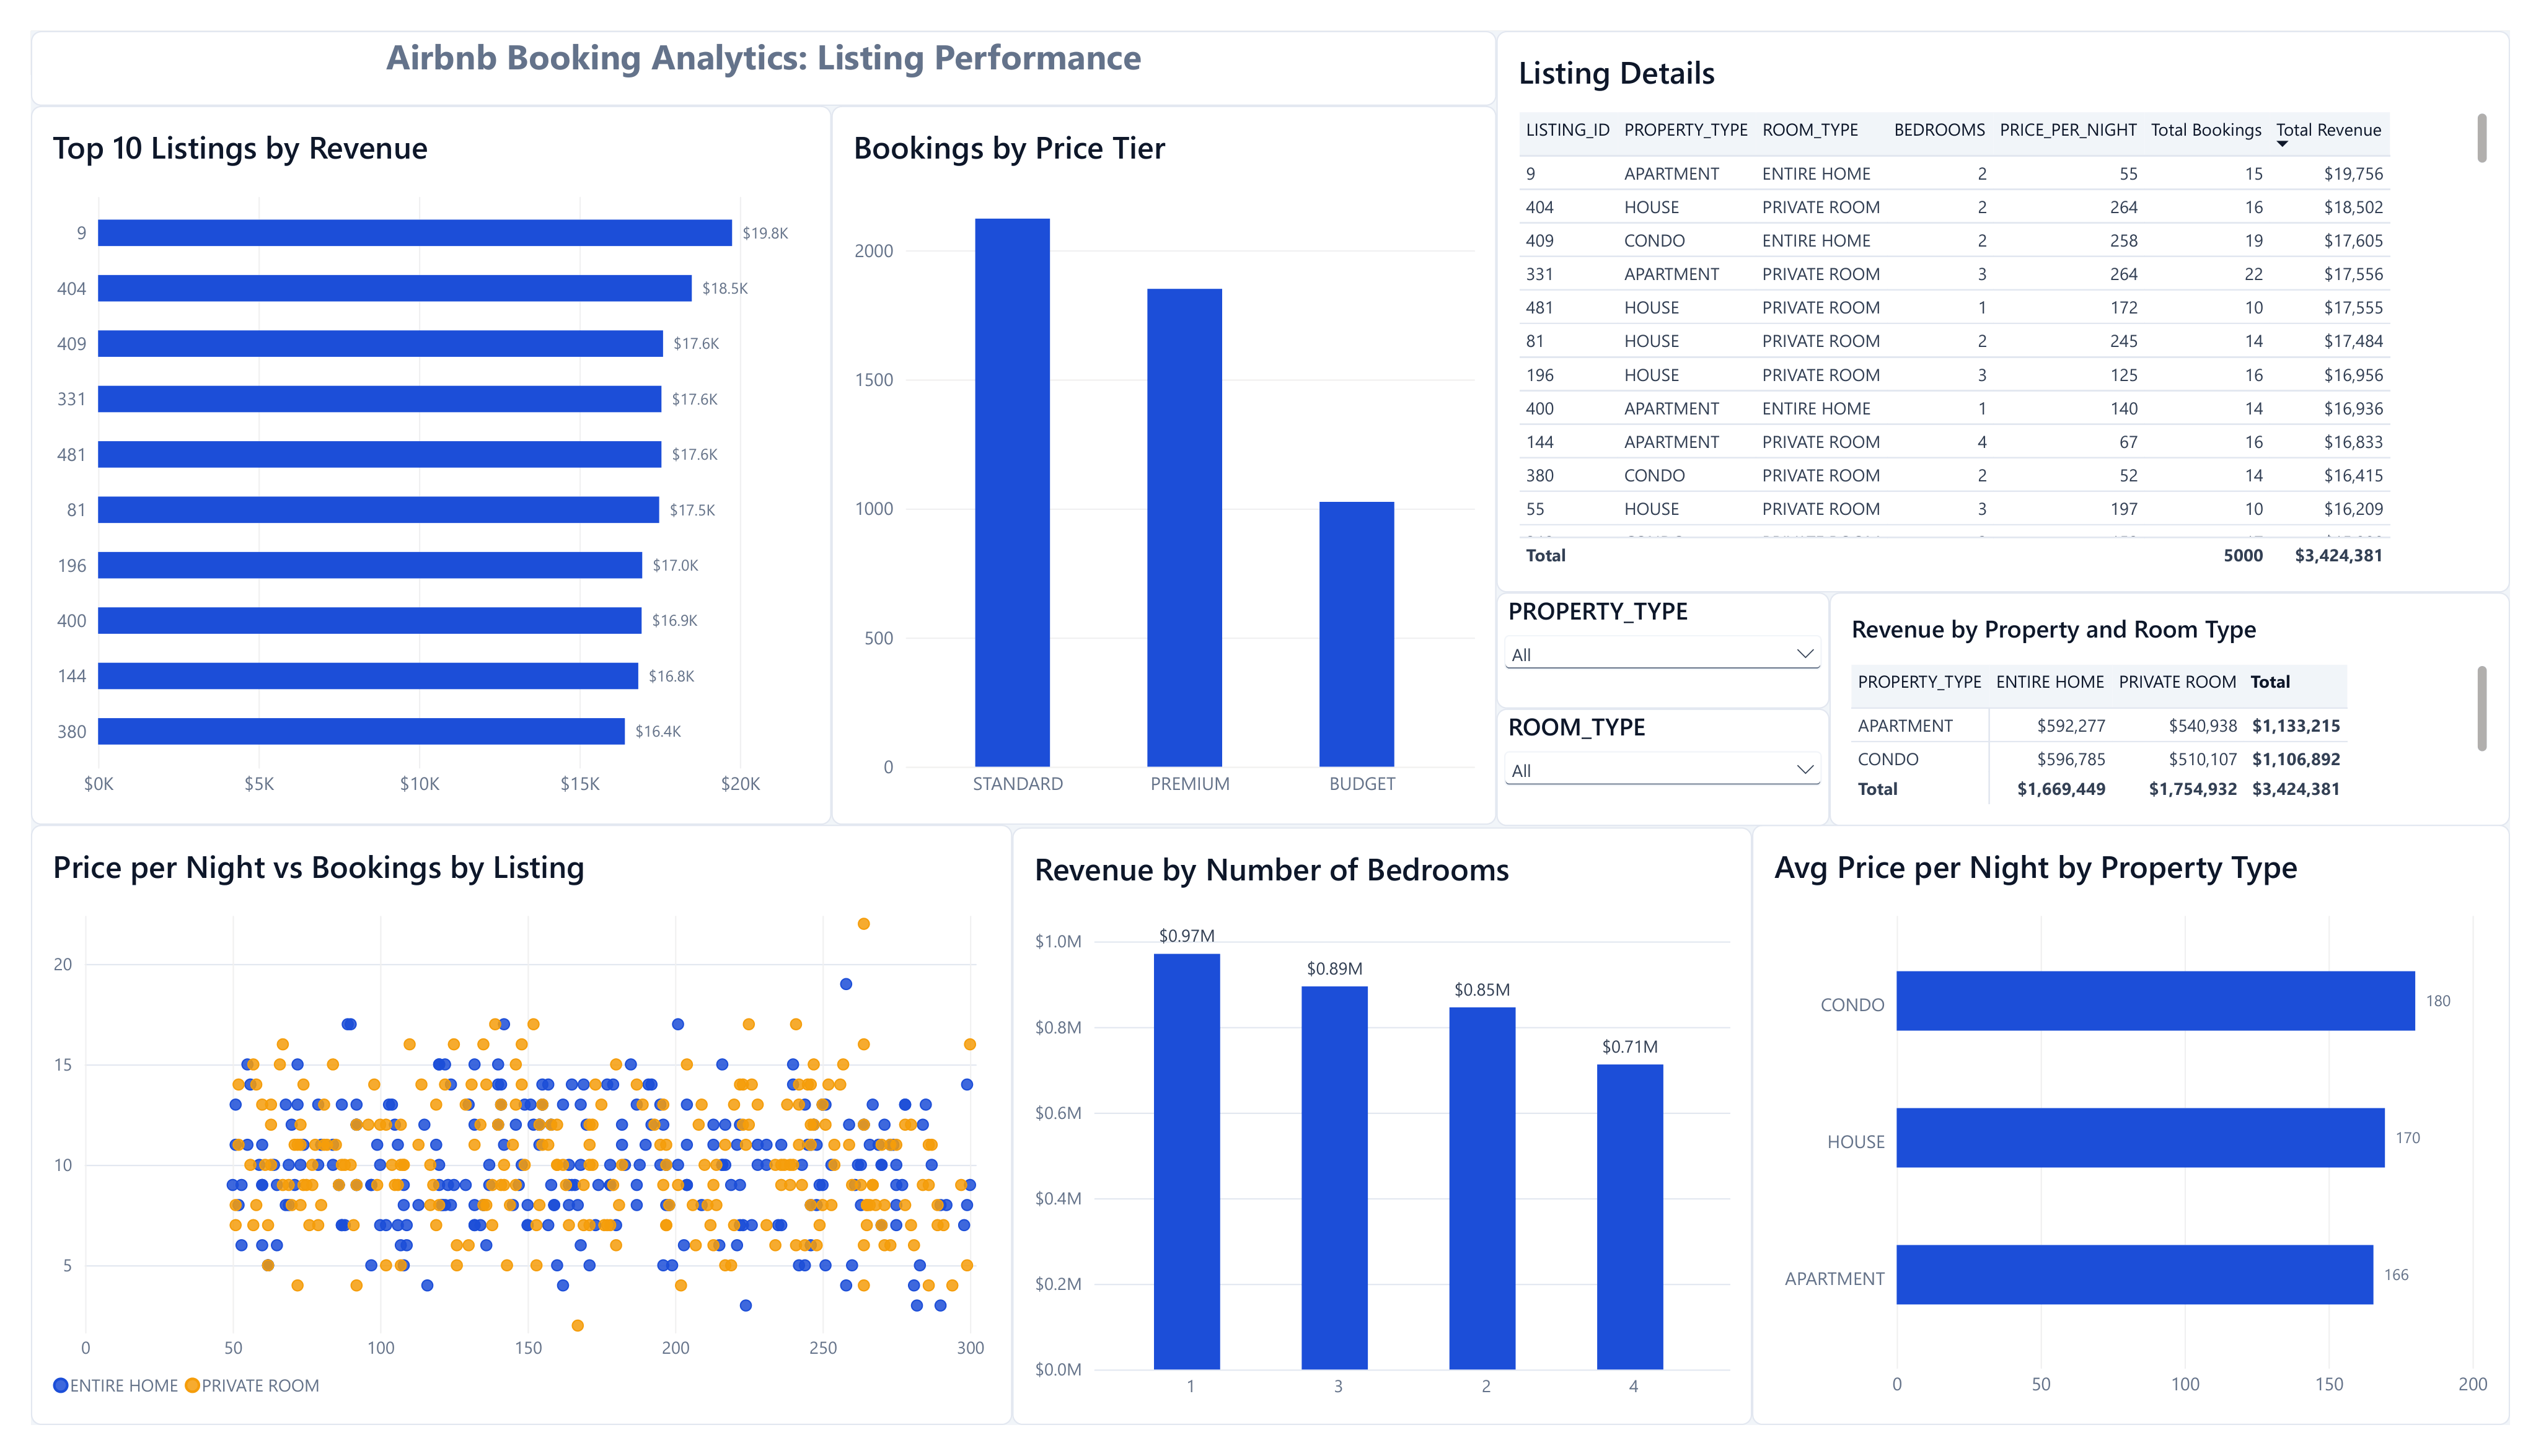

The page's visual inventory and layout, read from the dashboard file:
{"tool":"powerbi","page":{"name":"Listings","canvas":[1920,1080],"ordinal":1},"visuals":[{"type":"barChart","title":"Top 10 Listings by Revenue","fields":{"Y":["_Measures.Total Revenue"],"Category":["DIM_LISTINGS.LISTING_ID"]},"box":[0,58.3,620,556.7],"z":0},{"type":"pivotTable","title":"Revenue by Property and Room Type","fields":{"Rows":["DIM_LISTINGS.PROPERTY_TYPE"],"Columns":["DIM_LISTINGS.ROOM_TYPE"],"Values":["_Measures.Total Revenue"]},"box":[1393.3,434.8,526.7,180.9],"z":1000},{"type":"columnChart","title":"Bookings by Price Tier","fields":{"Category":["DIM_LISTINGS.PRICE_CATEGORY"],"Y":["_Measures.Total Bookings"]},"box":[620,58.3,515,556.7],"z":2000},{"type":"scatterChart","title":"Price per Night vs Bookings by Listing","fields":{"X":["_Measures.Avg Price per Night"],"Y":["_Measures.Total Bookings"],"Category":["DIM_LISTINGS.LISTING_ID"],"Series":["DIM_LISTINGS.ROOM_TYPE"]},"box":[0,615,760,465],"z":3000},{"type":"clusteredColumnChart","title":"Revenue by Number of Bedrooms","fields":{"Category":["DIM_LISTINGS.BEDROOMS"],"Y":["_Measures.Total Revenue"]},"box":[760,616.7,573.3,463.3],"z":4000},{"type":"barChart","title":"Avg Price per Night by Property Type","fields":{"Category":["DIM_LISTINGS.PROPERTY_TYPE"],"Y":["_Measures.Avg Price per Night"]},"box":[1333.3,615,586.7,465],"z":5000},{"type":"tableEx","title":"Listing Details","fields":{"Values":["DIM_LISTINGS.LISTING_ID","DIM_LISTINGS.PROPERTY_TYPE","DIM_LISTINGS.ROOM_TYPE","DIM_LISTINGS.BEDROOMS","DIM_LISTINGS.PRICE_PER_NIGHT","_Measures.Total Bookings","_Measures.Total Revenue"]},"box":[1135.1,0,784.9,434.8],"z":6000},{"type":"slicer","fields":{"Values":["DIM_LISTINGS.PROPERTY_TYPE"]},"box":[1135.1,434.8,258.2,90.5],"z":7000},{"type":"slicer","fields":{"Values":["DIM_LISTINGS.ROOM_TYPE"]},"box":[1135.1,525.2,258.2,90.5],"z":8000},{"type":"textbox","box":[0,0,1135,58.3],"z":9000}]}

Visuals, with their boxes on the page's 1920x1080 design canvas (x1, y1, x2, y2). These are canvas units, not pixel positions in the 2541x1456 screenshot, which may show the page scaled, cropped or inside an application window:
"Top 10 Listings by Revenue" barChart: (0, 58, 620, 615)
"Revenue by Property and Room Type" pivotTable: (1393, 435, 1920, 616)
"Bookings by Price Tier" columnChart: (620, 58, 1135, 615)
"Price per Night vs Bookings by Listing" scatterChart: (0, 615, 760, 1080)
"Revenue by Number of Bedrooms" clusteredColumnChart: (760, 617, 1333, 1080)
"Avg Price per Night by Property Type" barChart: (1333, 615, 1920, 1080)
"Listing Details" tableEx: (1135, 0, 1920, 435)
slicer - DIM_LISTINGS.PROPERTY_TYPE: (1135, 435, 1393, 525)
slicer - DIM_LISTINGS.ROOM_TYPE: (1135, 525, 1393, 616)
textbox: (0, 0, 1135, 58)
